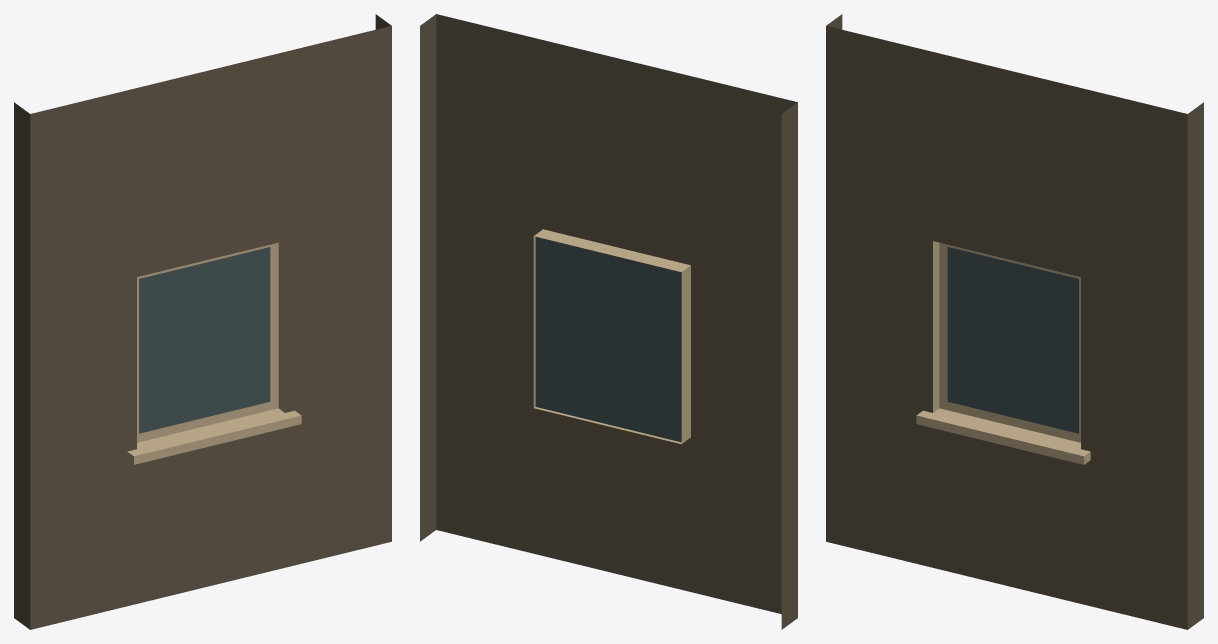
The model's file is mid-stair3.fbx.
The picture shows the model from 3 angles, left to right: view 1: azimuth 30°, elevation 25°; view 2: azimuth 150°, elevation 25°; view 3: azimuth 330°, elevation 25°; orthographic projection.
Visible parts, largest first — view 1: a2015/400/mid-stair; view 2: a2015/400/mid-stair; view 3: a2015/400/mid-stair.
Part boxes in pixels (bbox=[...]): a2015/400/mid-stair: bbox=[14, 14, 391, 629]; a2015/400/mid-stair: bbox=[420, 14, 797, 629]; a2015/400/mid-stair: bbox=[826, 14, 1203, 629].
Size of the model in its own units: 2.2 by 3 by 0.24.
